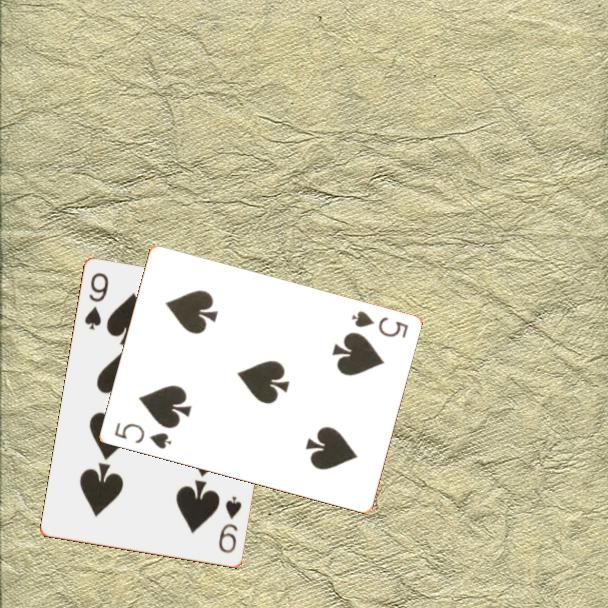s05: (348, 307, 411, 341), (110, 419, 174, 452)
s09: (81, 269, 112, 333), (215, 493, 245, 556)
